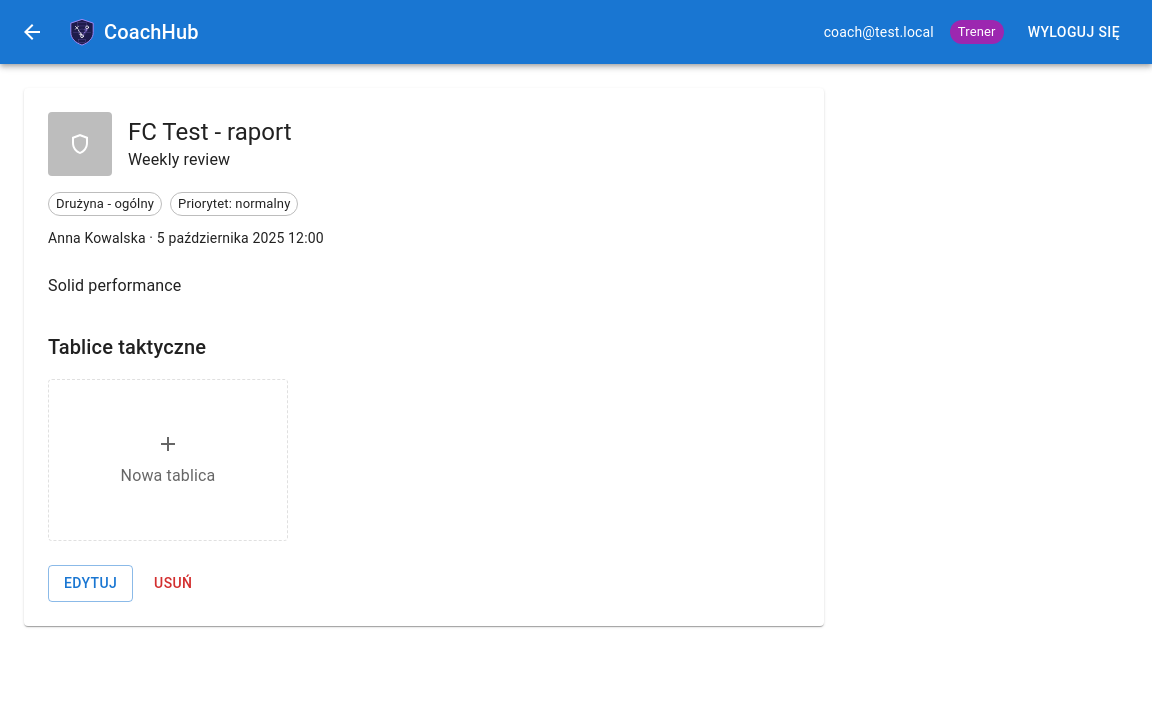
Test: deleting the report › shows an error and closes the confirmation when deleting fails
Check: the text "Weekly review" is shown, box [128,150,230,169]
Click the button "Usuń". click: (173, 583)
box: [141,565,205,602]
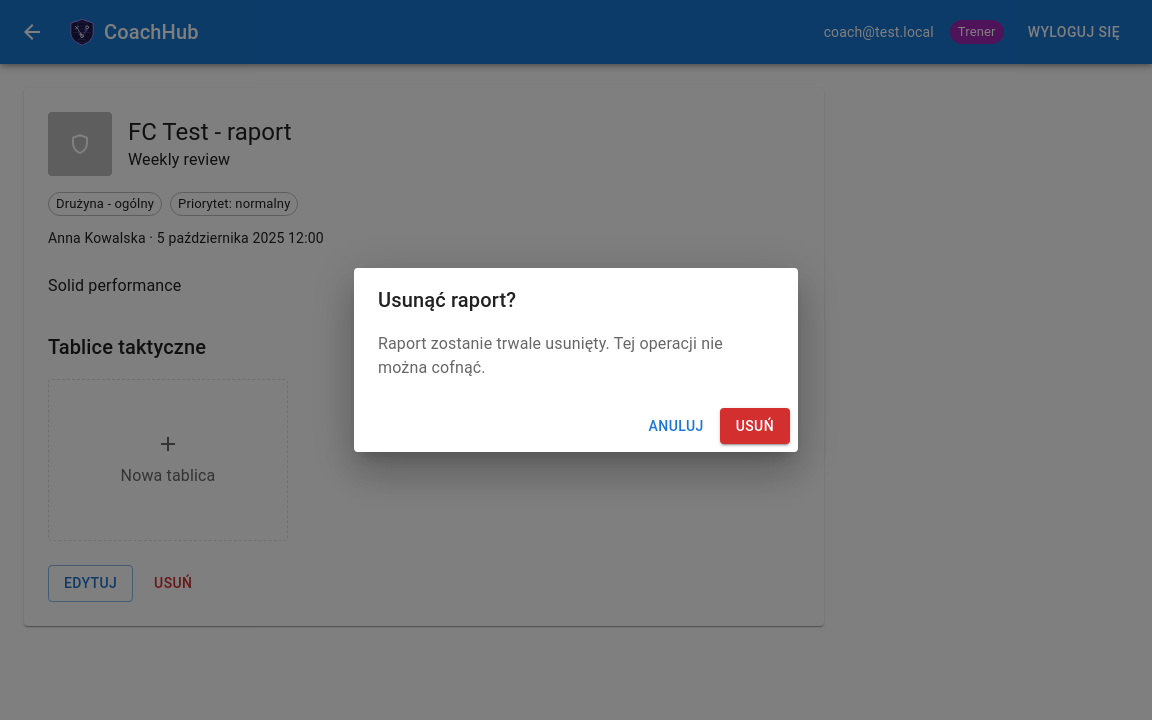
Click the button "Usuń". click: (755, 426)
box: [720,408,790,444]
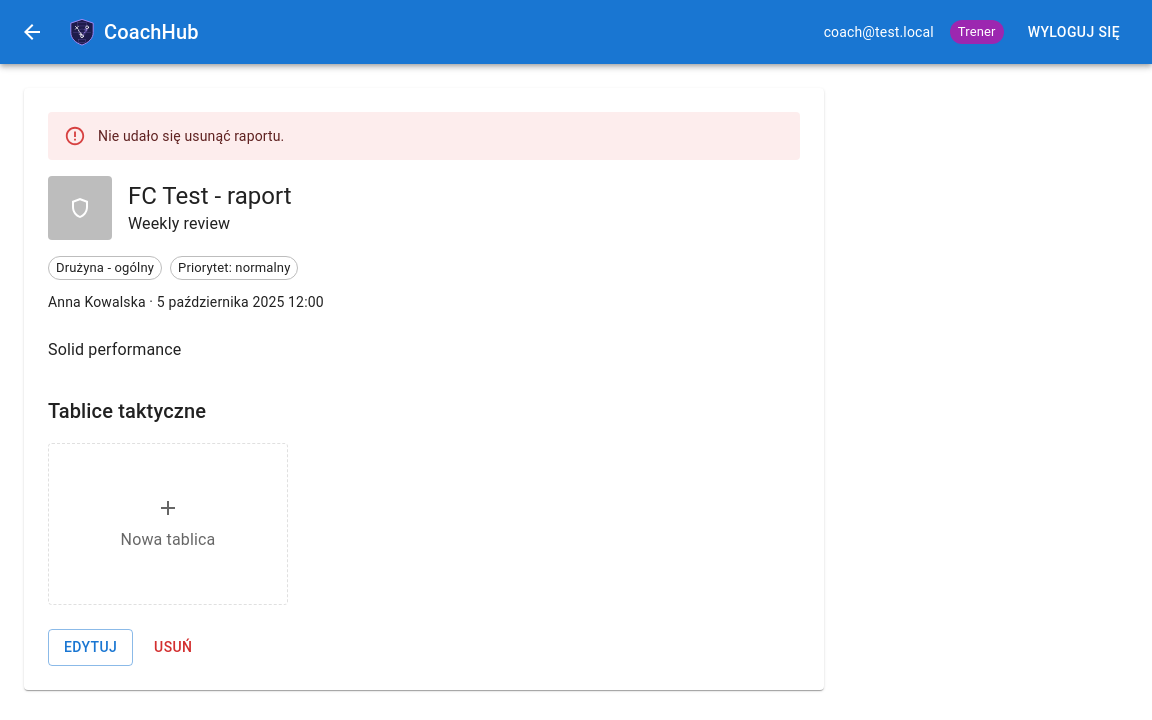
Check: the text "Weekly review" is shown, box [128,214,230,233]
Check: the text "Nie udało się usunąć raportu." is shown, box [98,128,284,144]
Check: the dialog is gone
